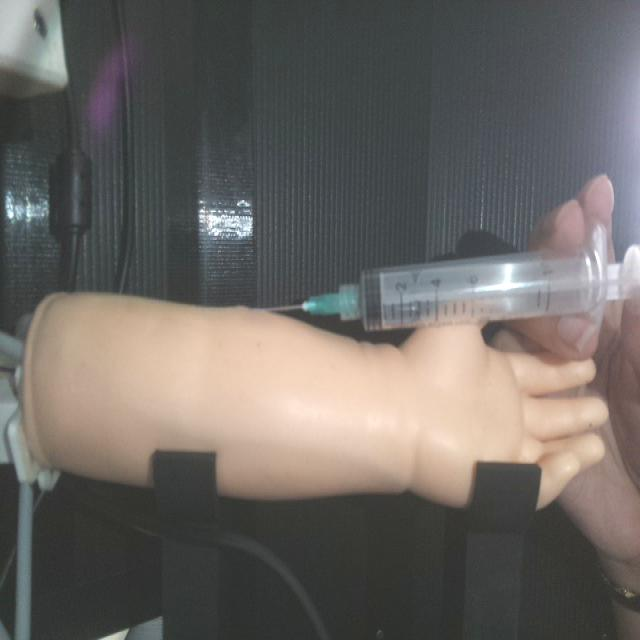Below 15 degrees: (260, 227, 638, 333)
